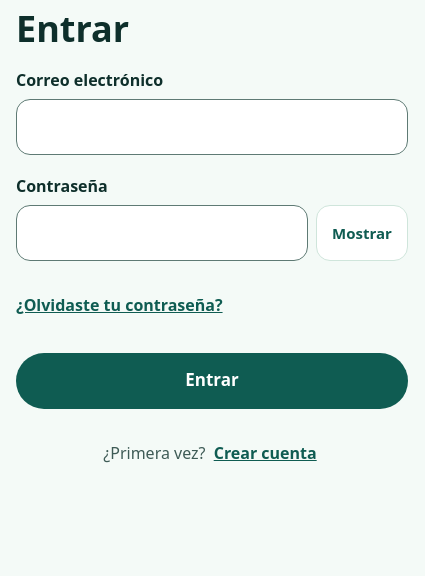
Test: login: an unknown or network error is never shown in raw English
In the field labelled "Correo electrónico": (212, 127) x1=16 y1=99 x2=408 y2=155, type "ana@correo.com"
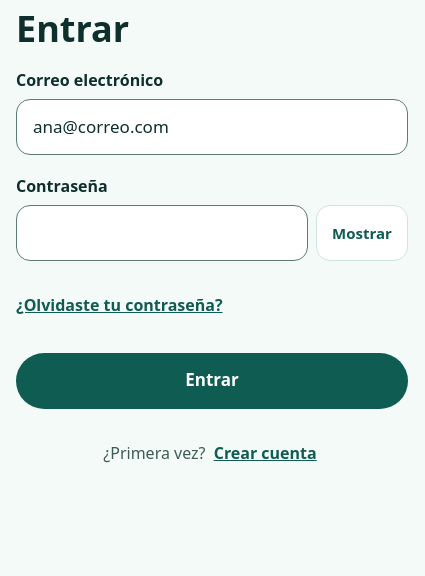
In the password field labelled "Contraseña": (162, 233) x1=16 y1=205 x2=308 y2=261, type "secreto123"
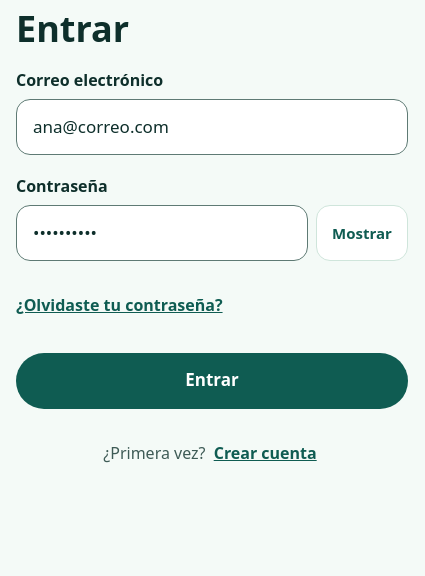
Click the button "Entrar": (212, 381) x1=16 y1=353 x2=408 y2=409
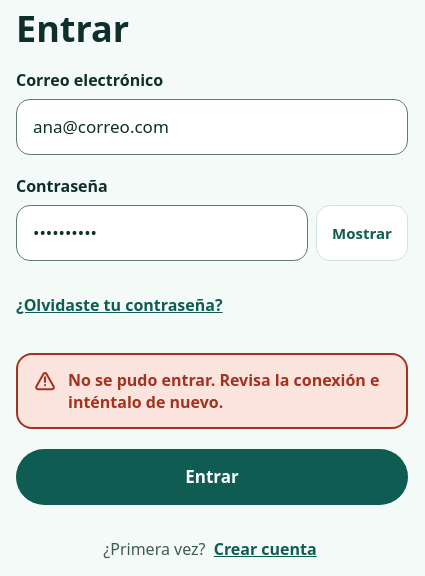
Now the message reads "No se pudo entrar. Revisa la conexión e inténtalo de nuevo.", box x1=68 y1=369 x2=380 y2=413
